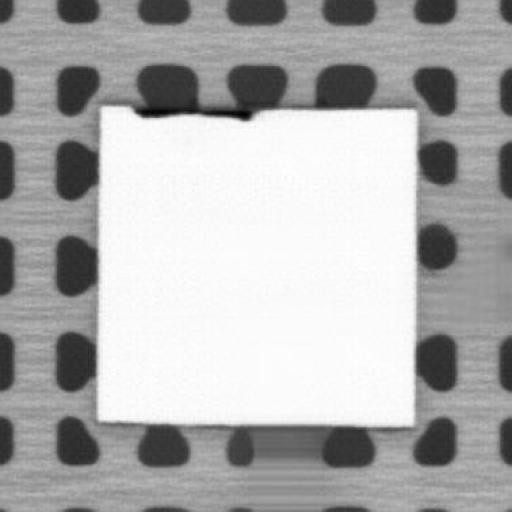DIE_BROKEN: (131, 100, 255, 121)
